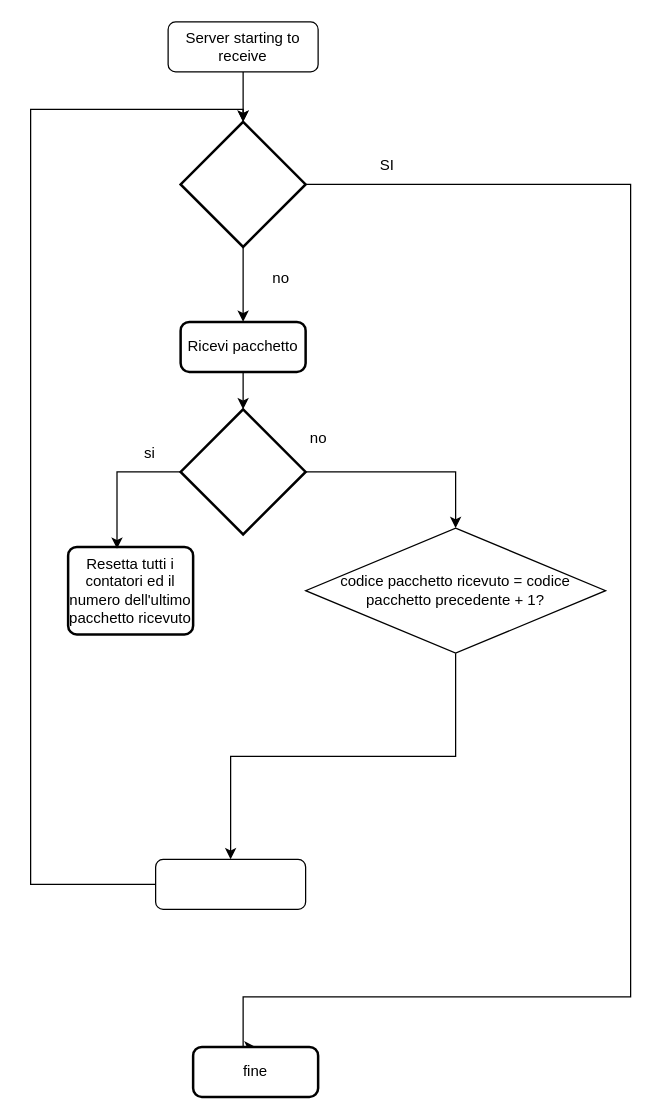
Some shapes in this 663 by 1120 pixel diagram are drawn without their labels. Each missing label, with the box of its shape:
Manda l'Ack del pacchetto: (154, 858, 306, 909)
Pacchetto terminatore?: (179, 408, 306, 535)
Server viene chiuso?: (179, 120, 306, 248)
